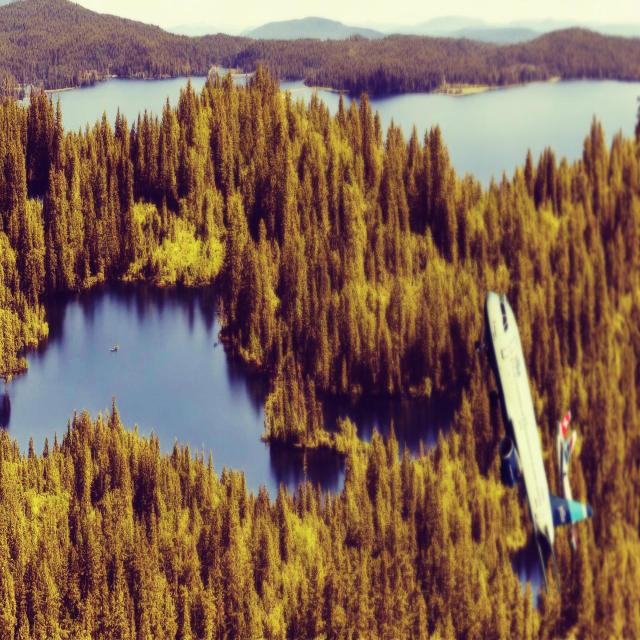airplane: (475, 289, 594, 596)
